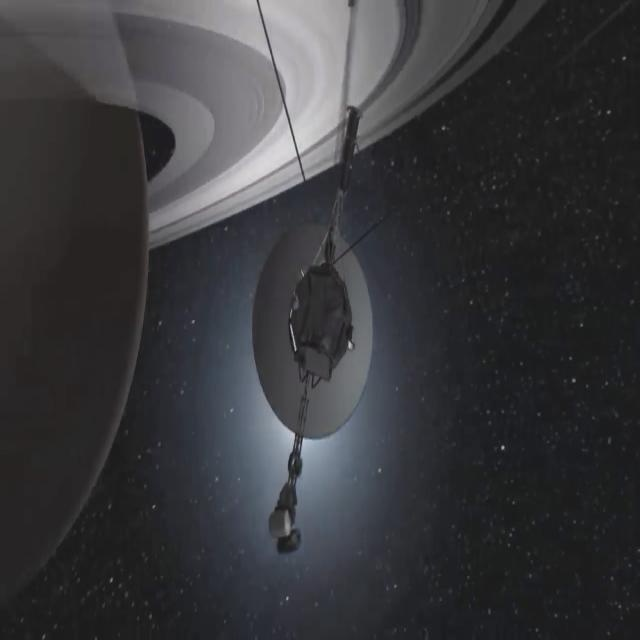medium_debris: (246, 0, 399, 617)
